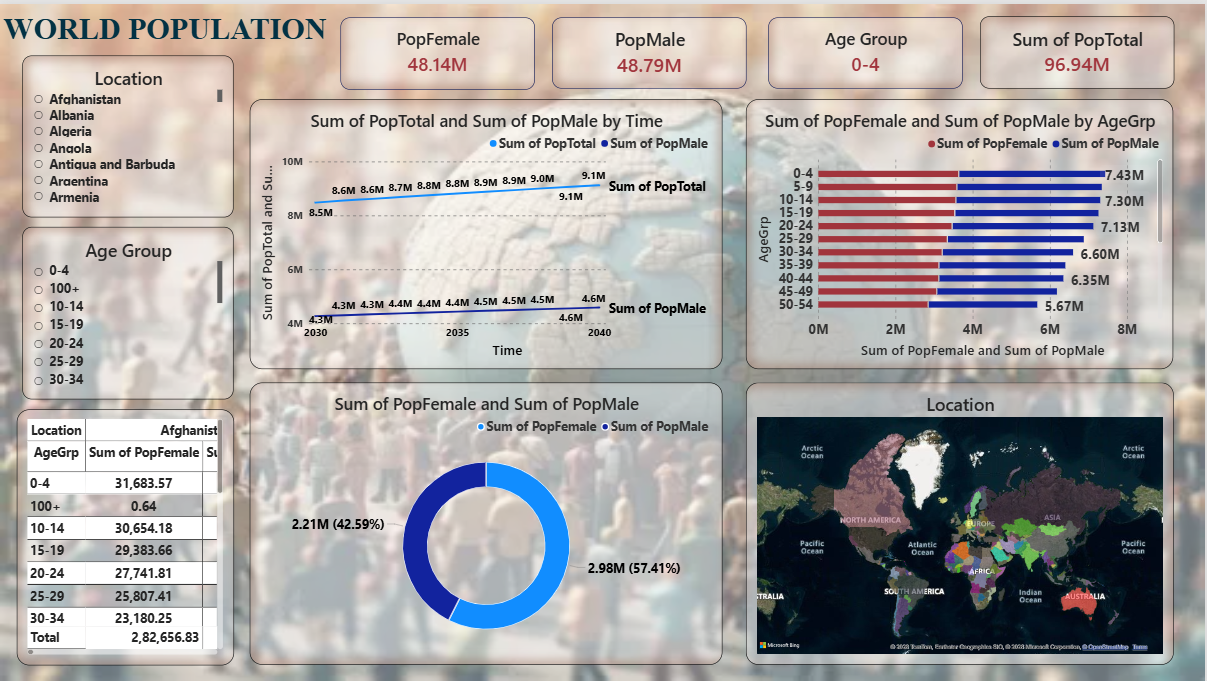

Layout of this report page (visuals, bound fields, positions):
{"tool":"powerbi","page":{"name":"Page 4","canvas":[1920,1080],"ordinal":0},"visuals":[{"type":"card","title":"PopFemale","fields":{"Values":["Sum(Query1.PopFemale)"]},"box":[543.3,21.7,310,115],"z":0},{"type":"card","title":"PopMale","fields":{"Values":["Sum(Query1.PopMale)"]},"box":[880,21.7,310,113.3],"z":1000},{"type":"card","title":"Sum of PopTotal","fields":{"Values":["Sum(Query1.PopTotal)"]},"box":[1561.7,20,310,115],"z":2000},{"type":"textbox","box":[0,0,526.7,82.4],"z":3000},{"type":"barChart","fields":{"Category":["Query1.AgeGrp"],"Y":["Sum(Query1.PopFemale)","Sum(Query1.PopMale)"]},"box":[1190,151.3,681.6,430.5],"z":4000},{"type":"lineChart","fields":{"Category":["Query1.Time"],"Y":["Sum(Query1.PopTotal)","Sum(Query1.PopMale)"]},"box":[397.7,151.3,753.3,430.5],"z":5000},{"type":"pivotTable","fields":{"Columns":["Query1.Location"],"Rows":["Query1.AgeGrp"],"Values":["Sum(Query1.PopFemale)","Sum(Query1.PopMale)"]},"box":[26,646,346,408],"z":6000},{"type":"filledMap","title":"Location ","fields":{"Category":["Query1.Location"],"Series":["Query1.Location"]},"box":[1190,604,682,450],"z":7000},{"type":"card","title":"Age Group","fields":{"Values":["Min(Query1.AgeGrp)"]},"box":[1225,21.7,310,113.3],"z":9000},{"type":"donutChart","fields":{"Y":["Sum(Query1.PopFemale)","Sum(Query1.PopMale)"]},"box":[398,604,754,450],"z":10000},{"type":"listSlicer","title":"Location","fields":{"Values":["Query1.Location"]},"box":[35,81.7,336.7,258.3],"z":10003},{"type":"listSlicer","title":"Age Group","fields":{"Values":["Query1.AgeGrp"]},"box":[35,355,336.7,275],"z":10004}]}

Visuals, with their boxes in screenshot pixels (x1, y1, x2, y2), scaled from the page's 1920x1080 canvas onto the 1207x681 screenshot:
"PopFemale" card: 342,14,536,86
"PopMale" card: 553,14,748,85
"Sum of PopTotal" card: 982,13,1177,85
textbox: 0,0,331,52
barChart - Query1.AgeGrp x Sum(Query1.PopFemale): 748,95,1177,367
lineChart - Query1.Time x Sum(Query1.PopTotal): 250,95,724,367
pivotTable - Query1.Location x Query1.AgeGrp: 16,407,234,665
"Location " filledMap: 748,381,1177,665
"Age Group" card: 770,14,965,85
donutChart - Sum(Query1.PopFemale) x Sum(Query1.PopMale): 250,381,724,665
"Location" listSlicer: 22,52,234,214
"Age Group" listSlicer: 22,224,234,397
